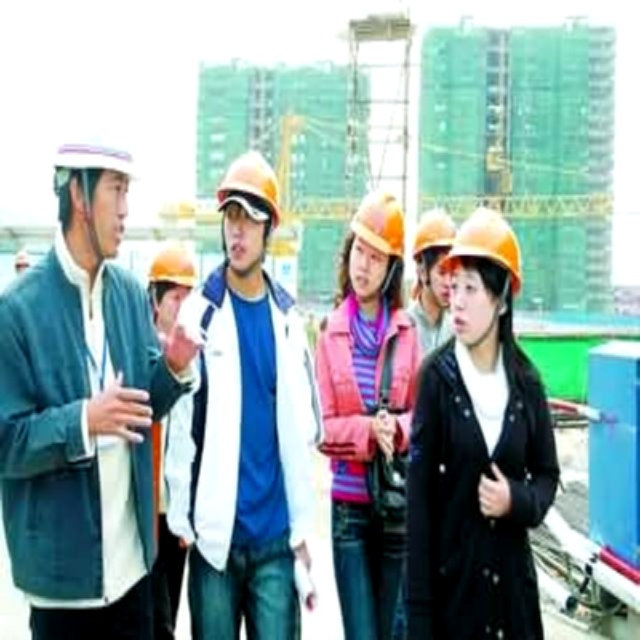Con_Casco: (449, 210, 522, 340), (216, 151, 279, 268), (344, 189, 404, 298)
